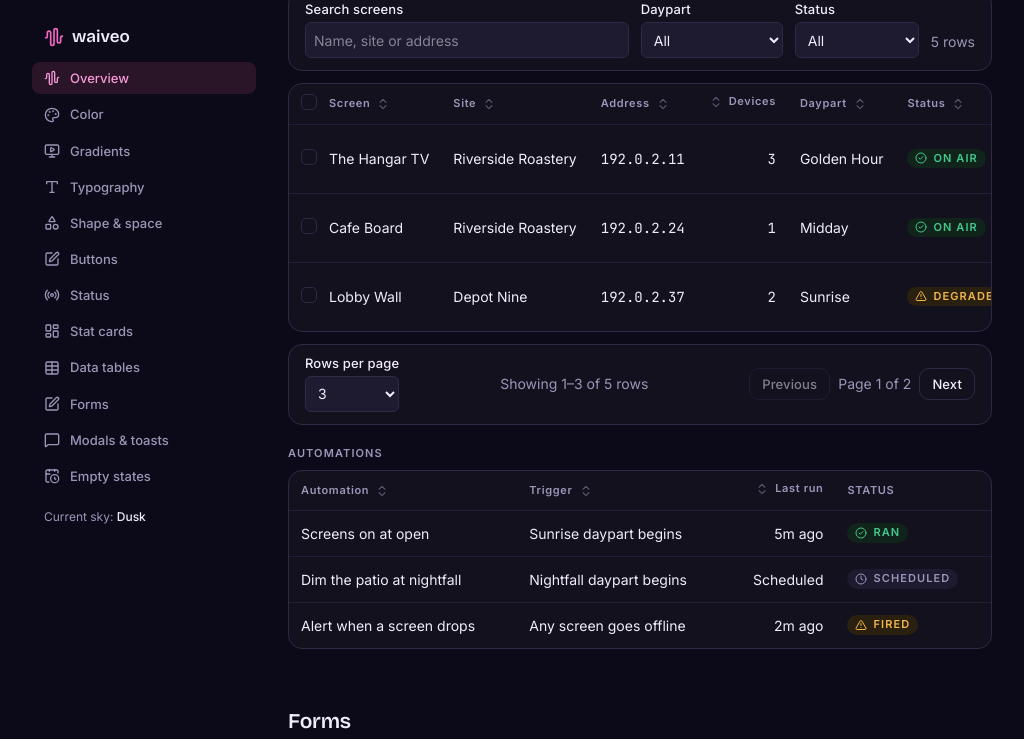
it: the design gallery under the dark theme › drives the gallery table's search, filter, paging and bulk selection
The width and height of the screenshot is (1024, 739).
(page scrolled)
Expected: the text "Showing 1–3 of 5 rows" is shown, 500,374 -> 648,394
Expected: the text "Drive-Thru Menu" is not shown
Click the button "Next" at (947, 384), box 919,368 -> 975,400
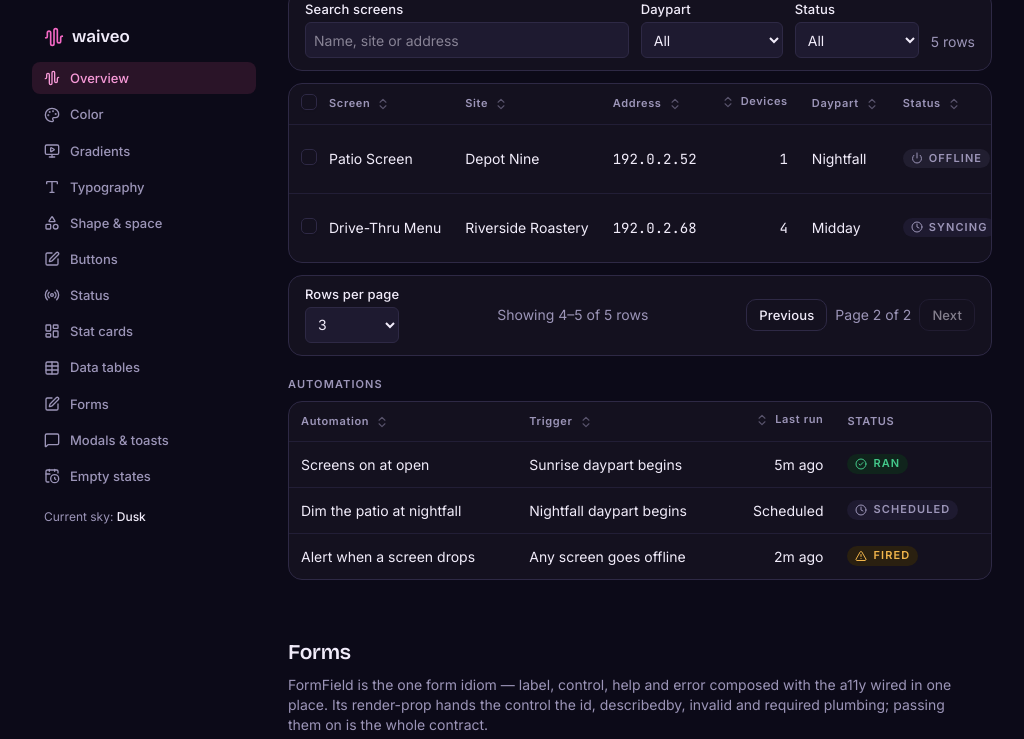
Expected: the text "Drive-Thru Menu" is shown, 317,193 -> 453,262
# Filter: the options are the dayparts the FIXTURES carry.
Select "Sunrise (1)" in the dropdown labelled "Daypart" at (712, 40), box 641,22 -> 783,58
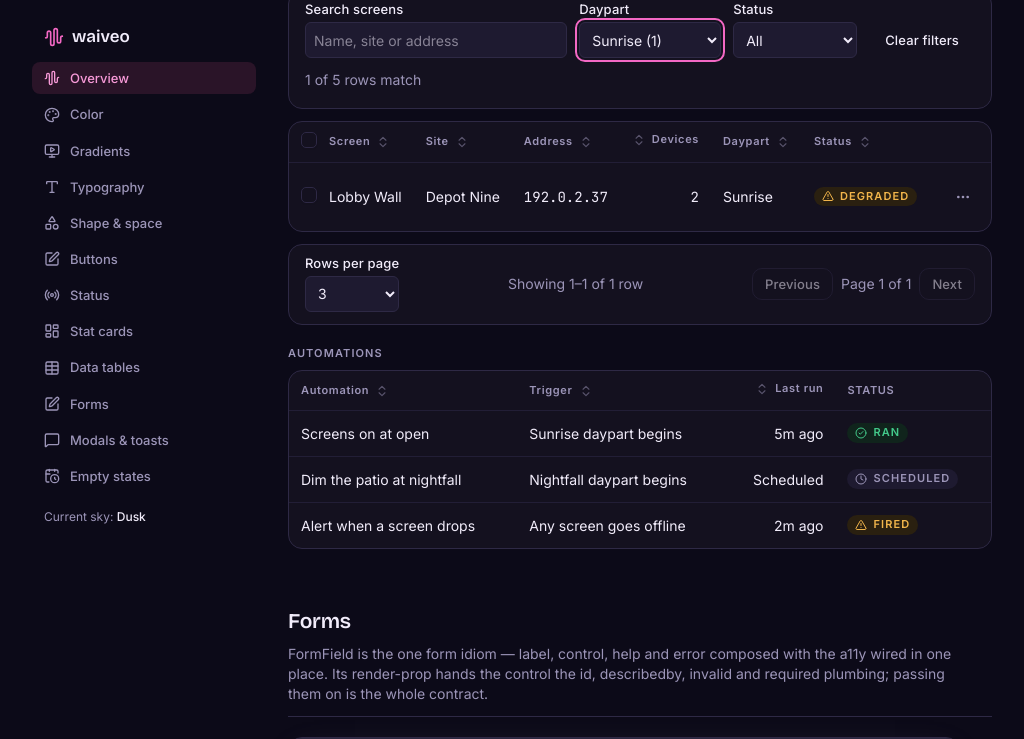
Expected: the text "Cafe Board" is not shown
Expected: the text "Lobby Wall" is shown, 317,162 -> 414,231
Select "All" in the dropdown labelled "Daypart" at (650, 40), box 579,22 -> 721,58
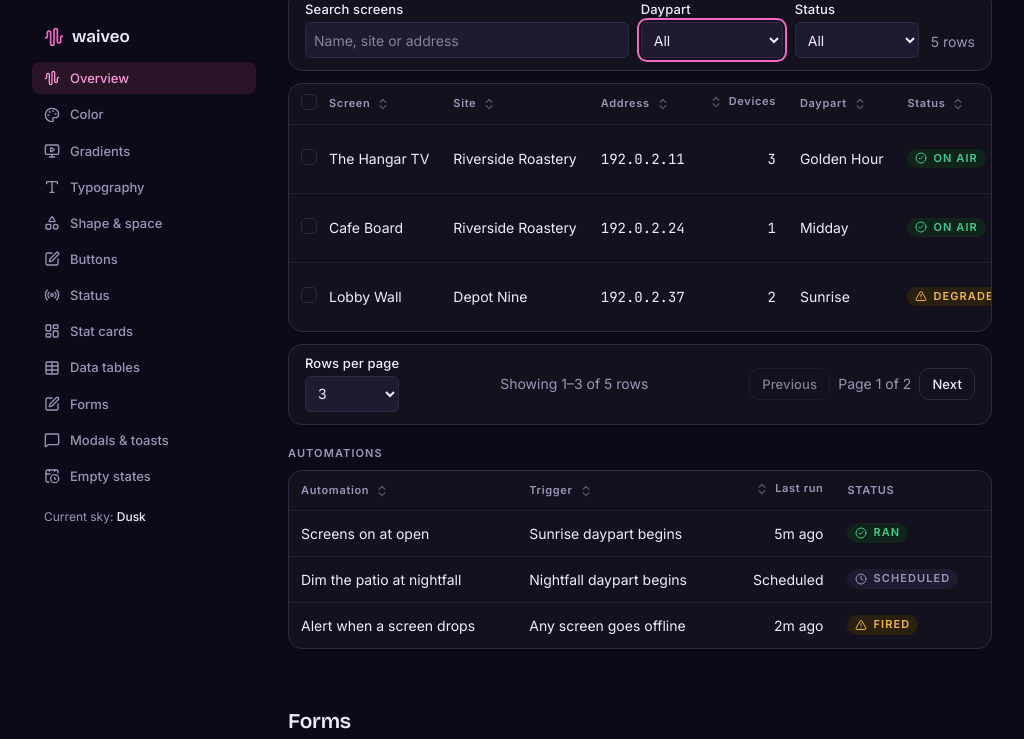
Type "Patio" into the search field labelled "Search screens" at (467, 40), box 305,22 -> 629,58
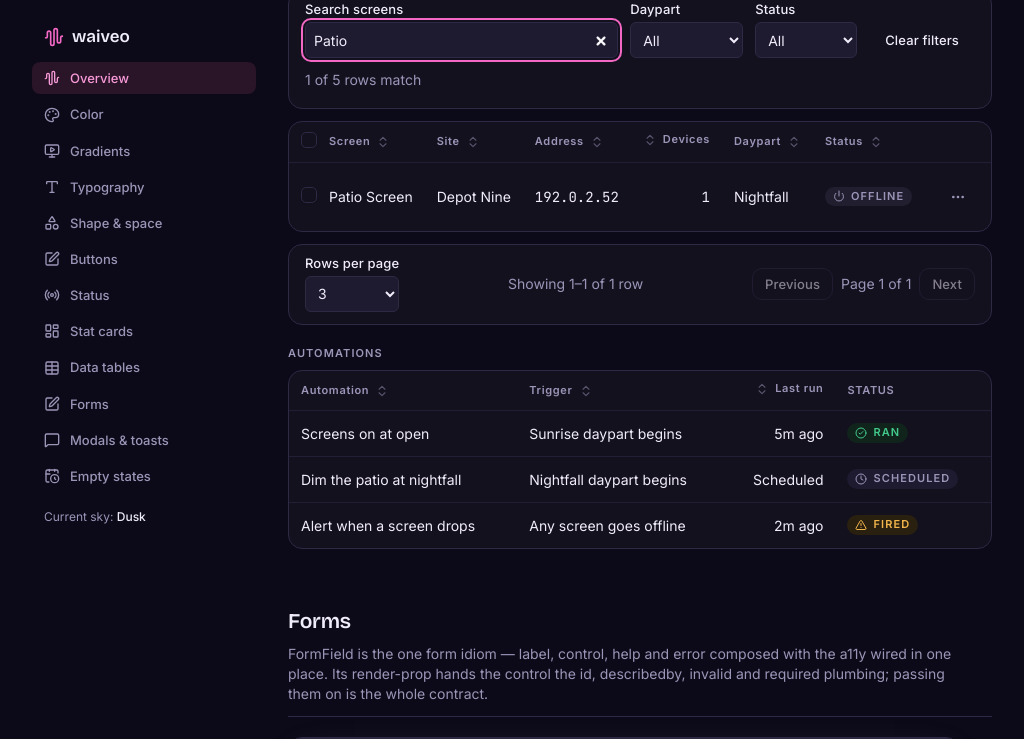
Expected: the text "Lobby Wall" is gone
Expected: the text "Patio Screen" is shown, 317,162 -> 425,231
# Selection + the bulk-action slot, which must reach the caller's handler.
Click the checkbox named "Select Patio Screen" at (309, 195), box 301,187 -> 317,203
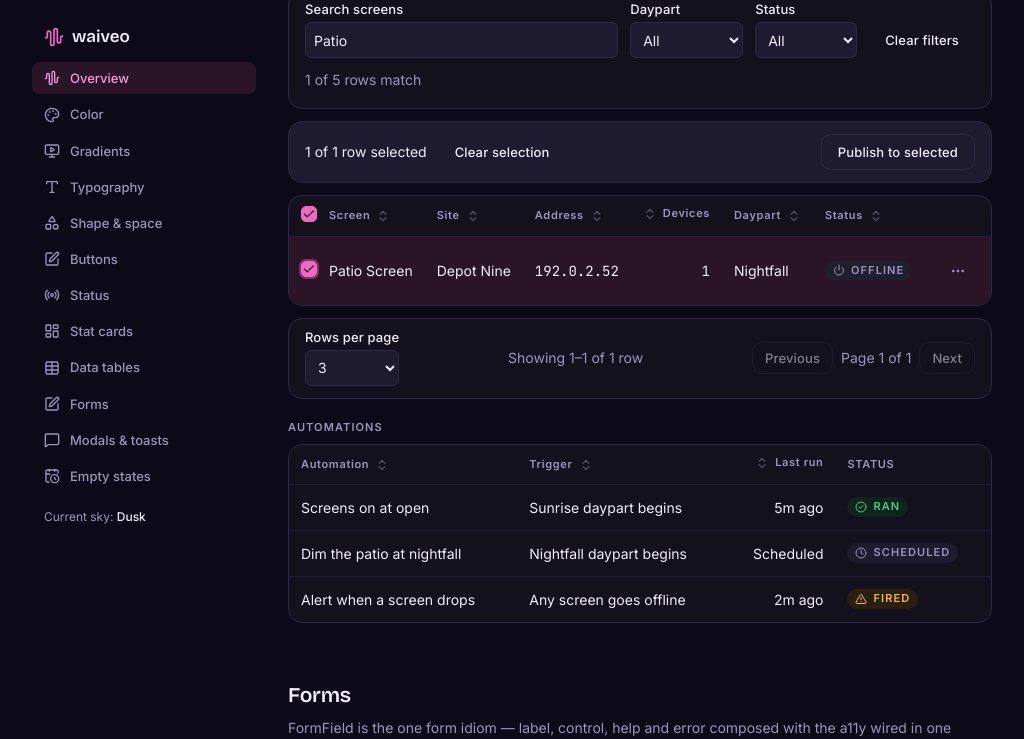
Click the button "Publish to selected" at (898, 152), box 821,134 -> 975,170
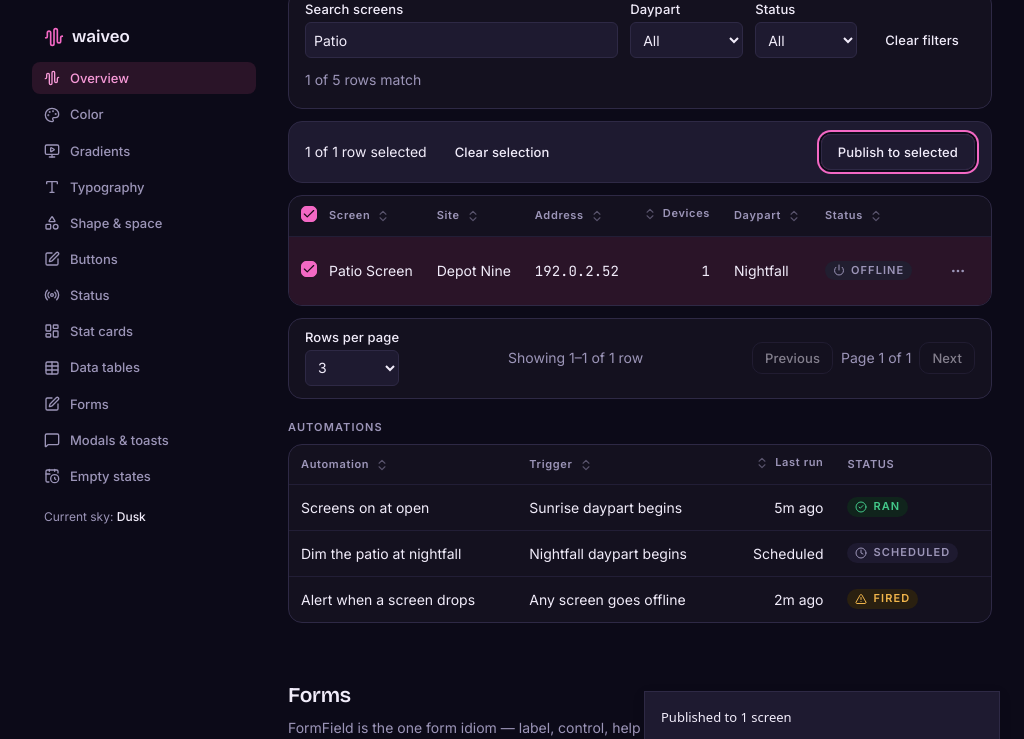
Expected: the text "Published to 1 screen" is shown, 661,708 -> 792,727
